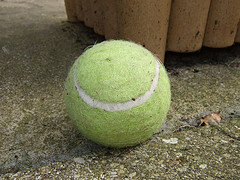tennis ball: (62, 37, 175, 151)
